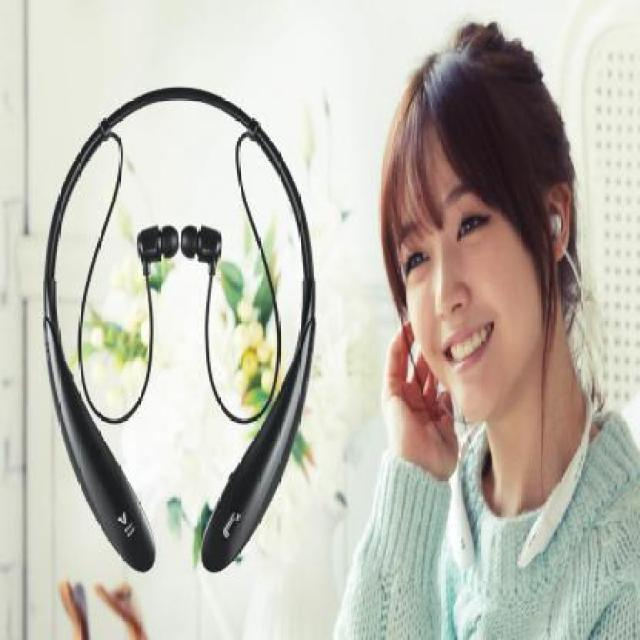earphone: (31, 48, 339, 602), (528, 195, 578, 250)
